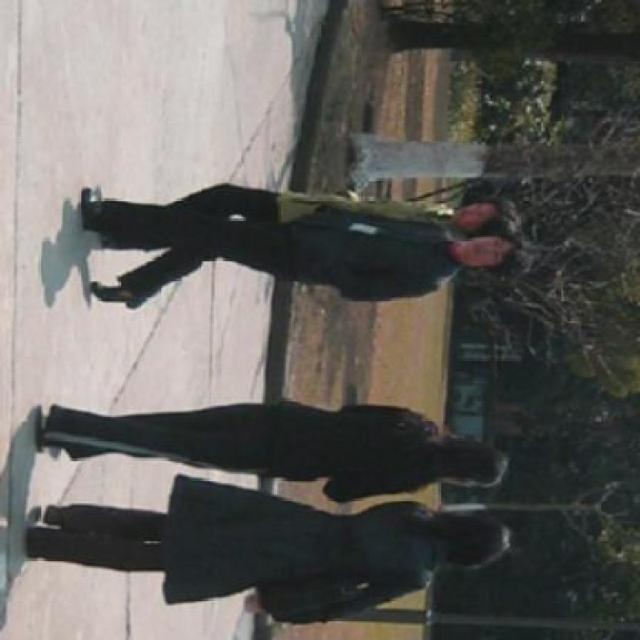obstacle: (18, 474, 510, 638), (72, 177, 536, 301), (33, 395, 505, 502), (150, 174, 527, 232)
